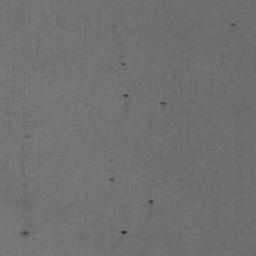Inclusion: (18, 195, 38, 237), (23, 131, 33, 140), (110, 23, 119, 31), (229, 20, 237, 28), (119, 60, 127, 68), (120, 229, 129, 236), (122, 93, 131, 99), (147, 200, 156, 206), (108, 177, 116, 183), (159, 101, 168, 106)
